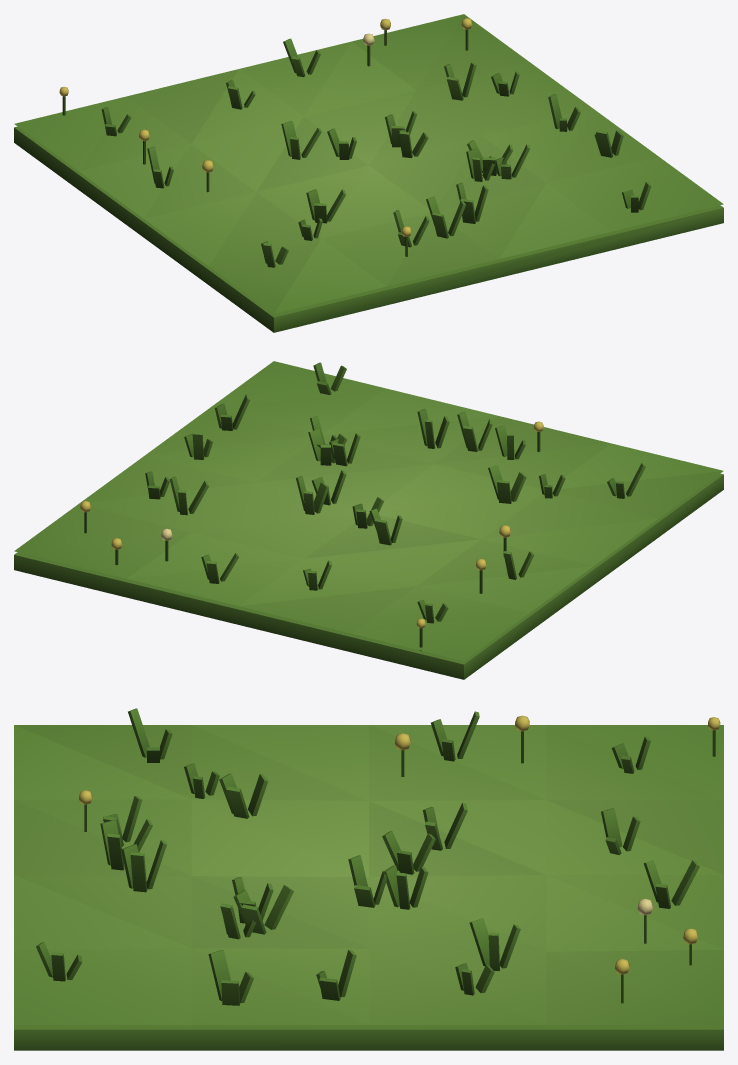
Rendered from countryside-grass-tile.glb.
3 views of the same model, one above another, from view 1: azimuth 30°, elevation 25°; view 2: azimuth 150°, elevation 25°; view 3: azimuth 270°, elevation 25° (orthographic). The views are drawn at different scales.
Parts seen in each view (by area): view 1: countryside_grass_tile; view 2: countryside_grass_tile; view 3: countryside_grass_tile.
Boxes of the visible parts, x1,y1,x2,y2 form: countryside_grass_tile: (14,14,723,332); countryside_grass_tile: (14,361,723,679); countryside_grass_tile: (14,708,723,1050).
Size of the model in its own units: 4 by 0.4507 by 4.
